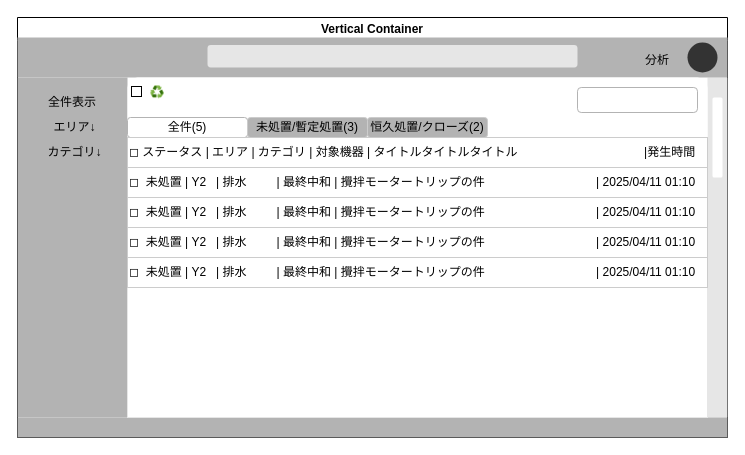
Some shapes in this 745 by 455 pixel diagram are drawn without their labels. The shapes that lost their labels are listed below. From the top down, each one's box as (x1, y1, x2, y2) in pixels, then its label:
(207, 44, 577, 67): 検索バー
(576, 86, 698, 112): EXCEL エクスポート
